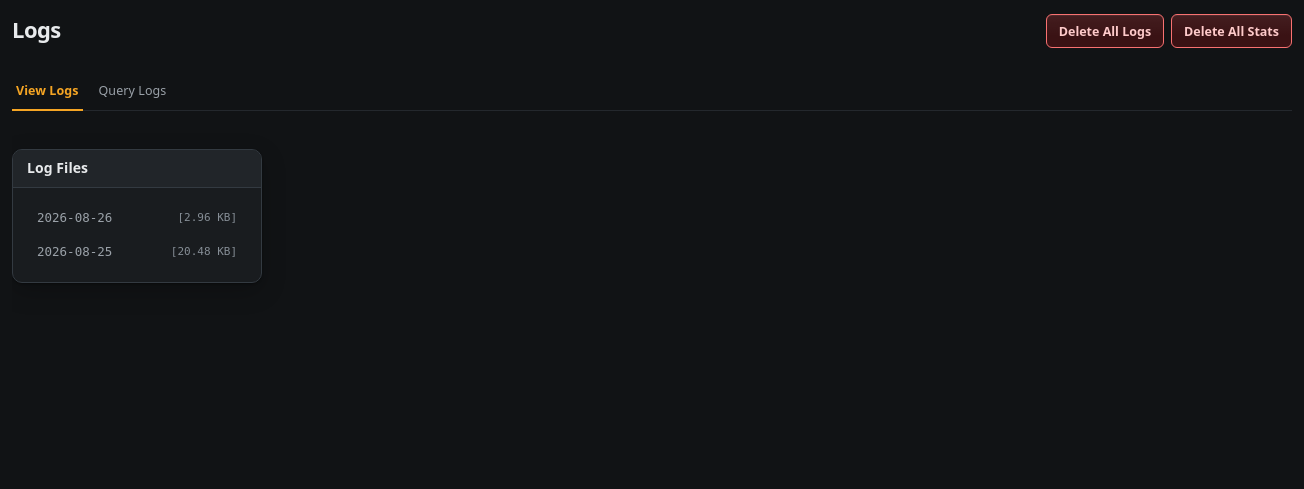
Test: Logs › View Logs › opening a file asks for only the first 2 MB and draws it
What coordinates should you click on to do the following:
click the text "2026-08-26"
I would click on:
 (75, 218)
Its box is 37,210 -> 112,226.
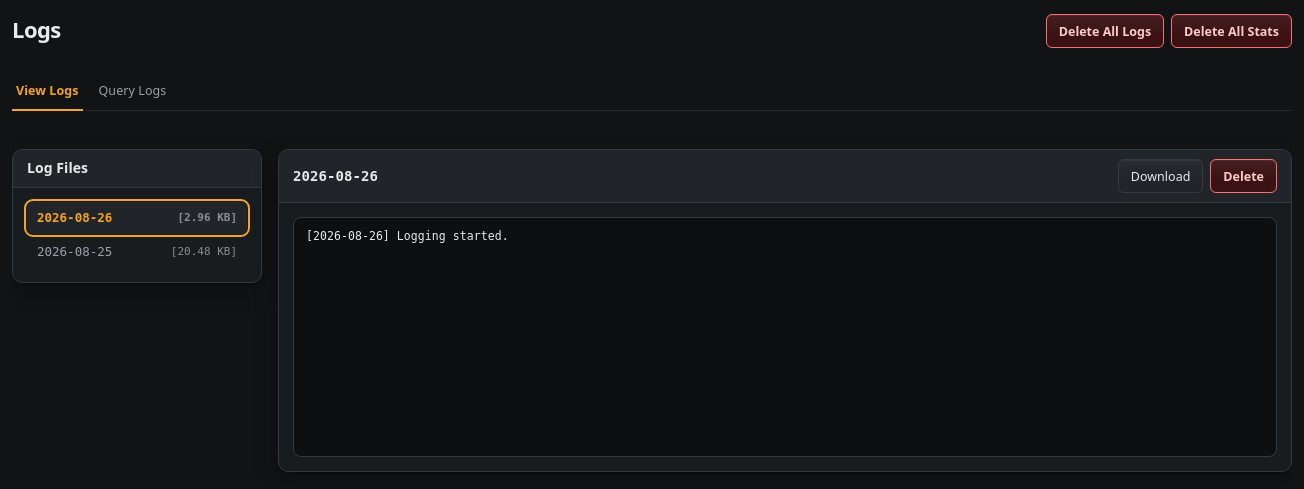
Expected: the text "[2026-08-26] Logging started." is shown, 306,229 -> 509,243
